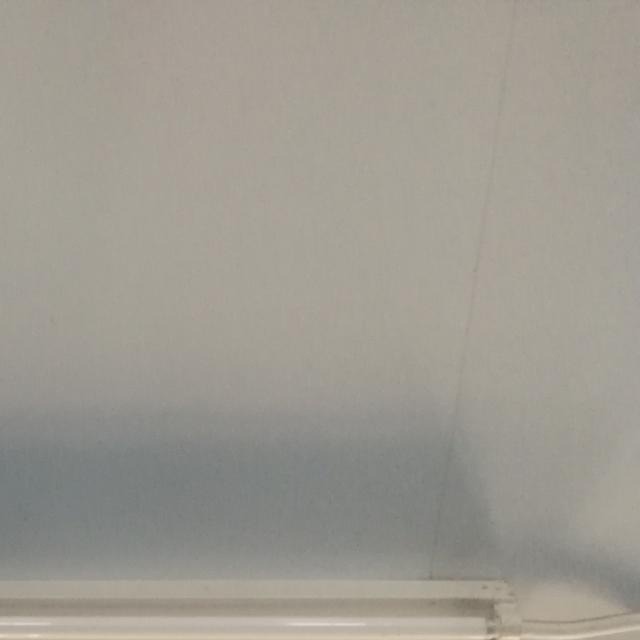fluorescent tube: (0, 537, 542, 640)
